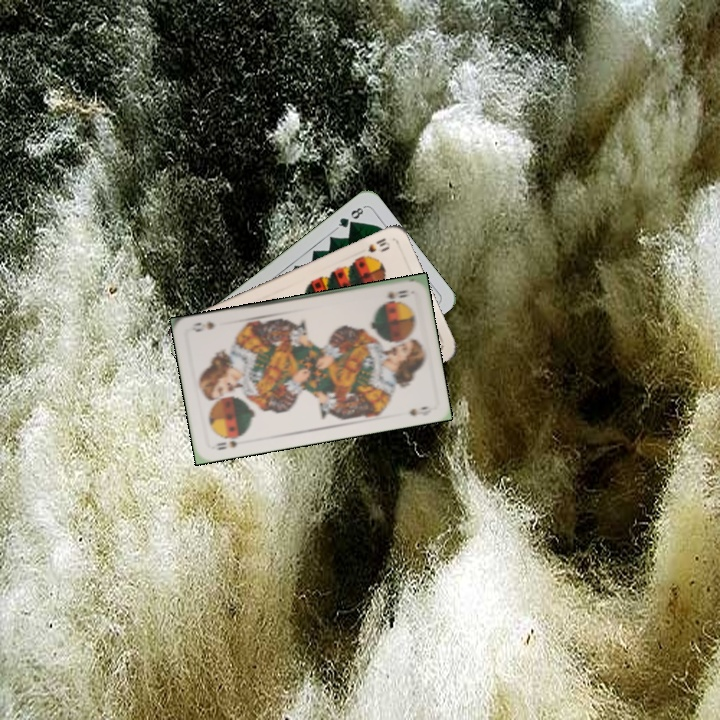G8: (332, 203, 368, 232)
S10: (356, 234, 393, 260)
SO: (213, 431, 247, 453), (383, 286, 412, 302)
